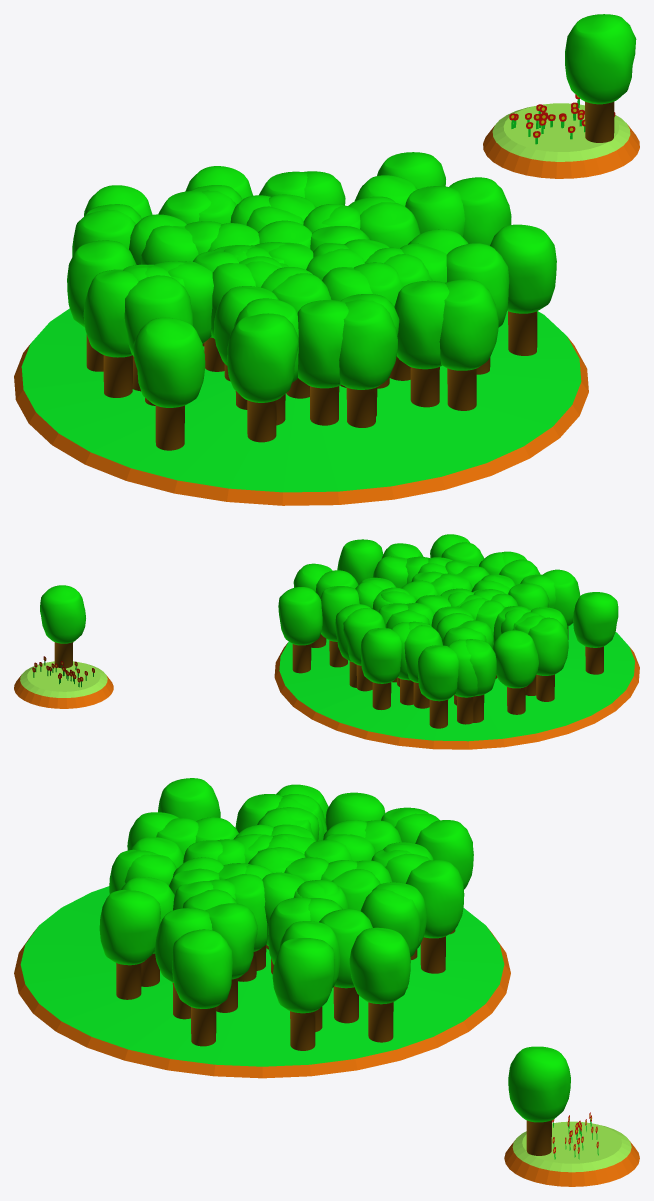
File: world.glb
3 views of the same model, one above another, from view 1: azimuth 30°, elevation 25°; view 2: azimuth 150°, elevation 25°; view 3: azimuth 270°, elevation 25° (orthographic). The views are drawn at different scales.
Visible parts, largest first — view 1: Circle.004, Circle.002, Circle.003, Circle, Circle.001, Plane.001; view 2: Circle.004, Circle.003, Circle.002, Circle, Circle.001, Plane.001; view 3: Circle.003, Circle.002, Circle.004, Circle, Circle.001.
Boxes of the visible parts, x1,y1,x2,y2 form: Circle.004: (67, 171, 446, 450); Circle.002: (14, 308, 588, 505); Circle.003: (184, 152, 556, 425); Circle: (483, 103, 639, 178); Circle.001: (565, 14, 636, 142); Plane.001: (509, 94, 615, 144); Circle.004: (335, 551, 618, 728); Circle.003: (278, 534, 555, 709); Circle.002: (274, 623, 639, 749); Circle: (14, 661, 113, 708); Circle.001: (40, 585, 85, 668); Plane.001: (32, 656, 94, 687); Circle.003: (99, 818, 464, 1050); Circle.002: (14, 886, 510, 1078); Circle.004: (109, 778, 473, 956); Circle: (504, 1121, 639, 1186); Circle.001: (508, 1046, 570, 1155).
Bounding box in the file's own units: 31.69 × 5.83 × 26.3.
